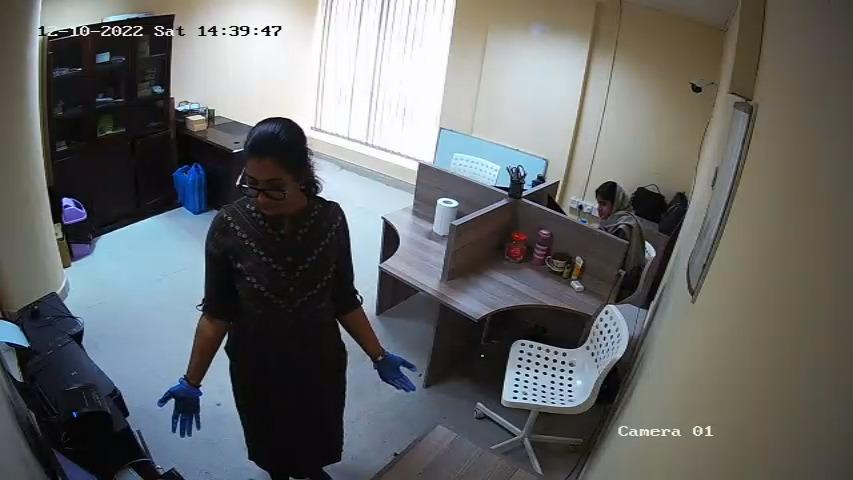gloves: (157, 381, 206, 439), (370, 350, 423, 397)
